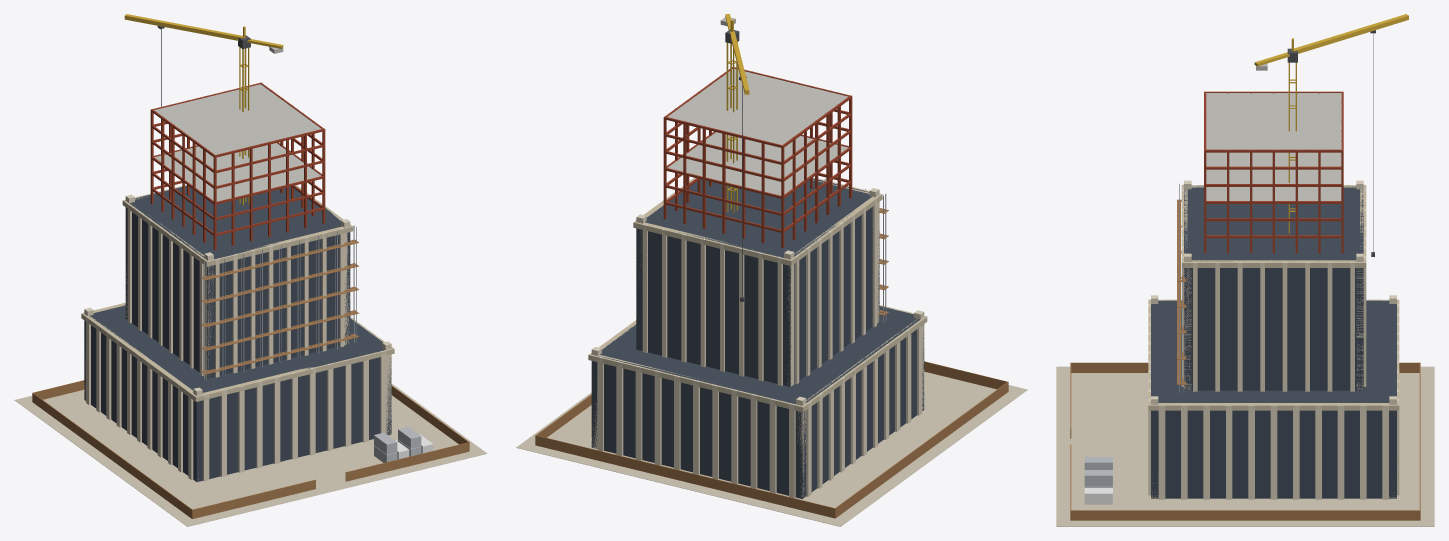
The model's file is mega_skylinetower_2.glb.
3 renders of one model, left to right at view 1: azimuth 30°, elevation 25°; view 2: azimuth 150°, elevation 25°; view 3: azimuth 270°, elevation 25°, orthographic. The views are drawn at different scales.
Parts seen in each view (by area): view 1: mega_skylinetower_2; view 2: mega_skylinetower_2; view 3: mega_skylinetower_2.
Part boxes in pixels (x1,y1,x2,y2): mega_skylinetower_2: (14,14,487,526); mega_skylinetower_2: (516,14,1027,526); mega_skylinetower_2: (1056,14,1434,526).
Size of the model in its own units: 80 by 97 by 80.
